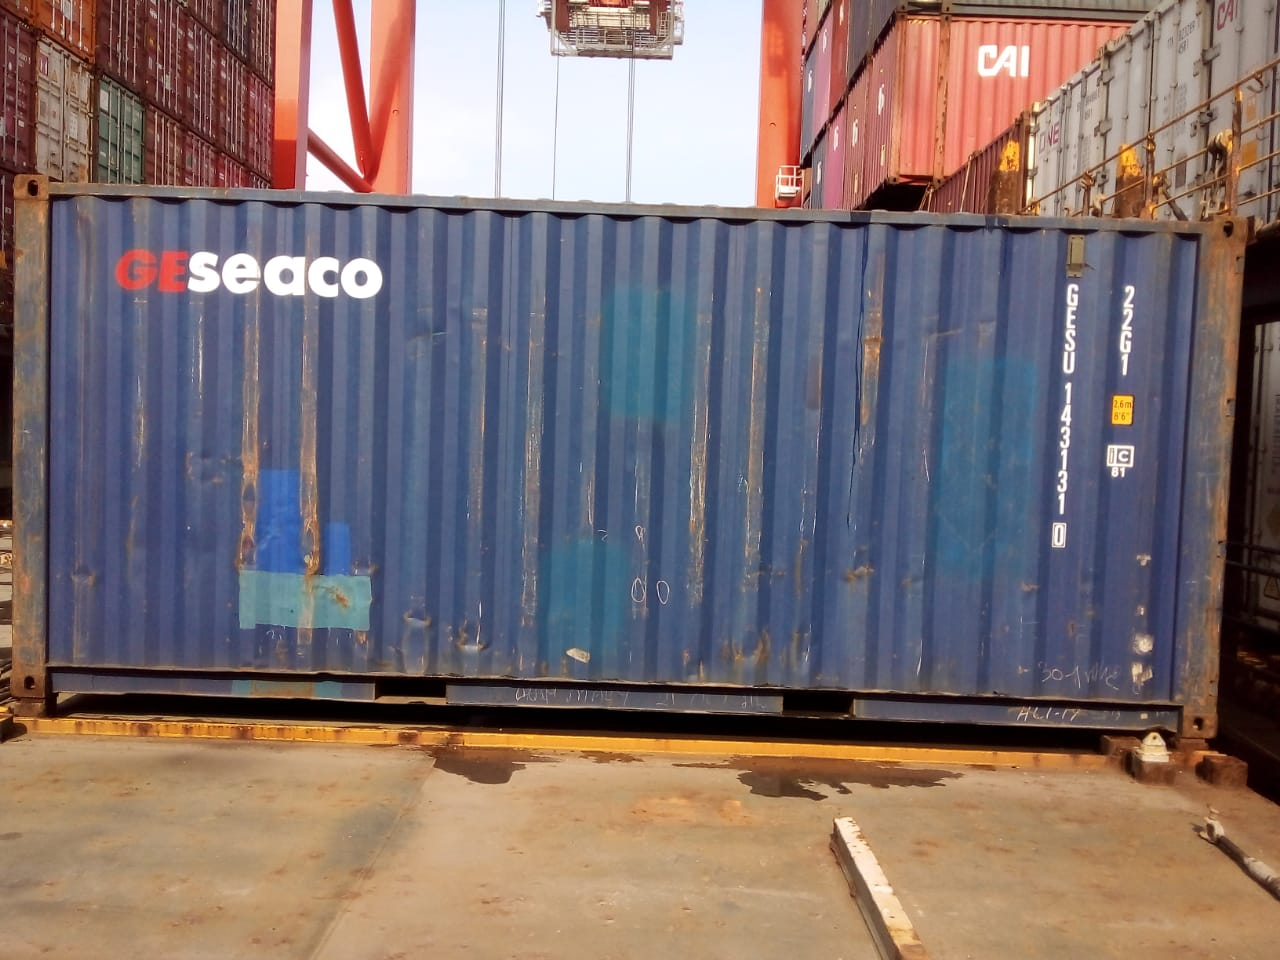bulged: (270, 456, 335, 619)
rust: (843, 216, 914, 461)
